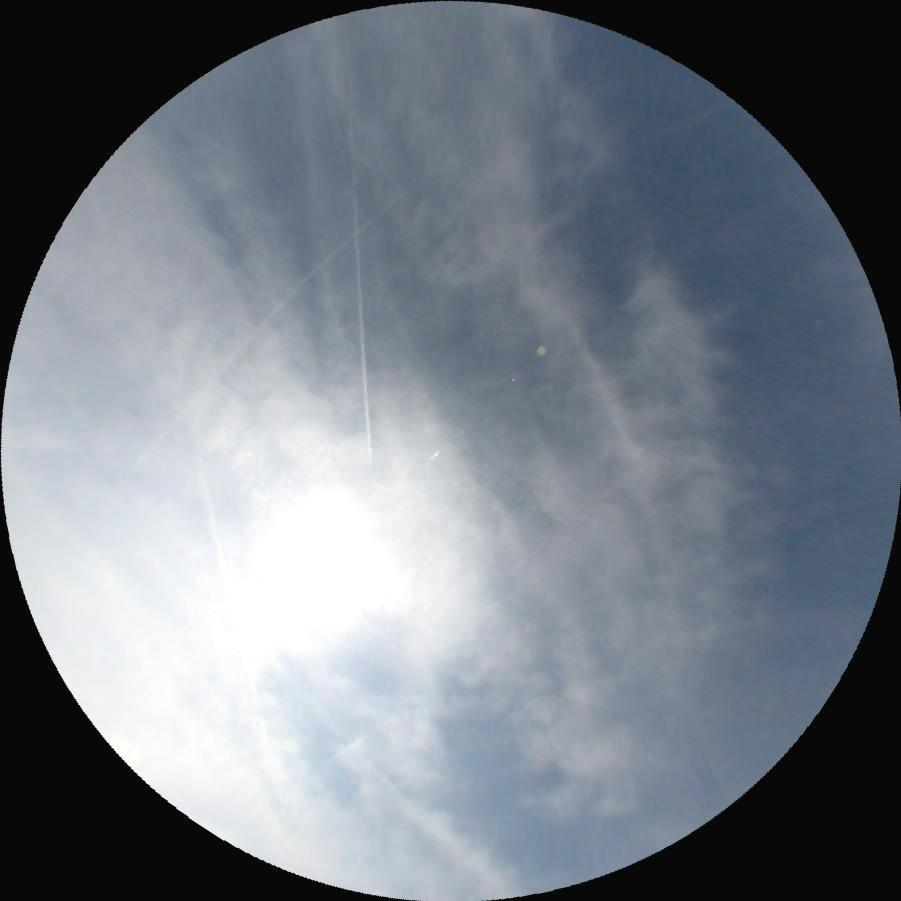contrail young: (111, 193, 395, 485), (191, 460, 261, 703), (344, 91, 373, 464)
sun: (268, 512, 378, 623)
